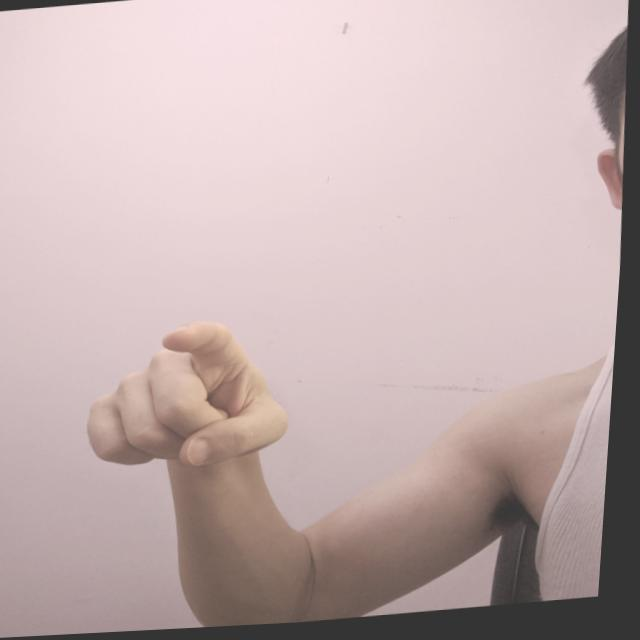Z: (79, 314, 307, 481)
